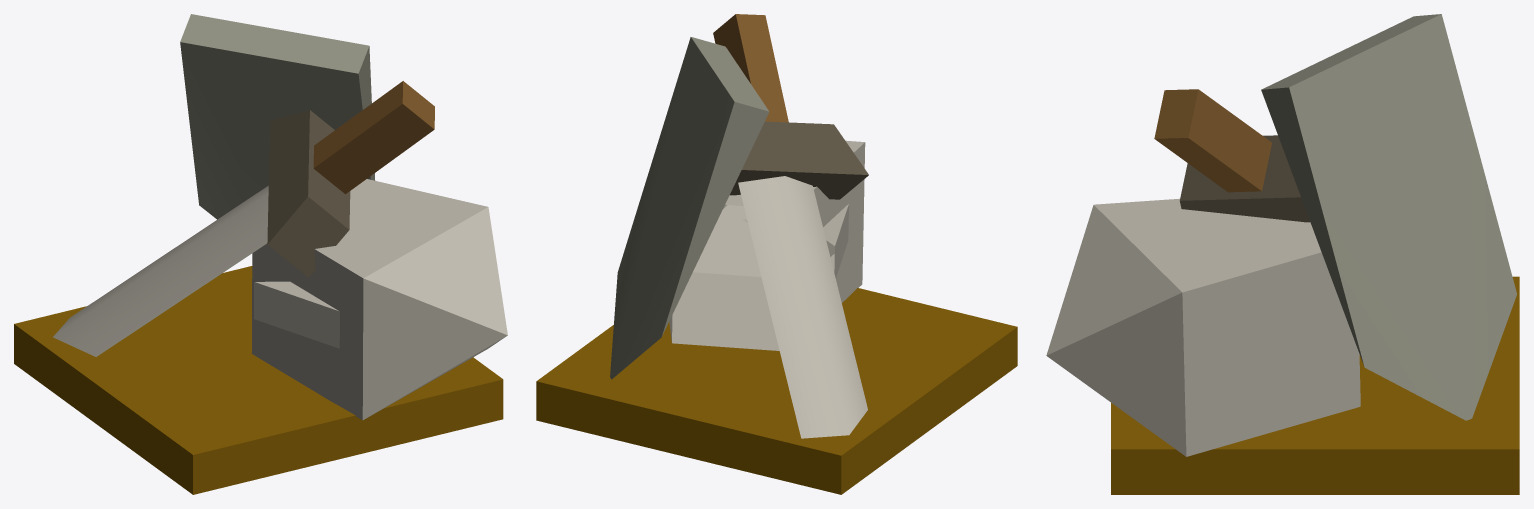
File: armamentsfree.fbx
3 views of the same model, side by side, from view 1: azimuth 30°, elevation 25°; view 2: azimuth 150°, elevation 25°; view 3: azimuth 270°, elevation 25° (orthographic). The views are drawn at different scales.
Parts seen in each view (by area): view 1: armaments; view 2: armaments; view 3: armaments.
Part boxes in pixels (x1,y1,x2,y2): armaments: (14,14,507,494); armaments: (536,14,1017,494); armaments: (1046,14,1519,494).
Size of the model in its own units: 0.1346 by 0.1335 by 0.1476.
